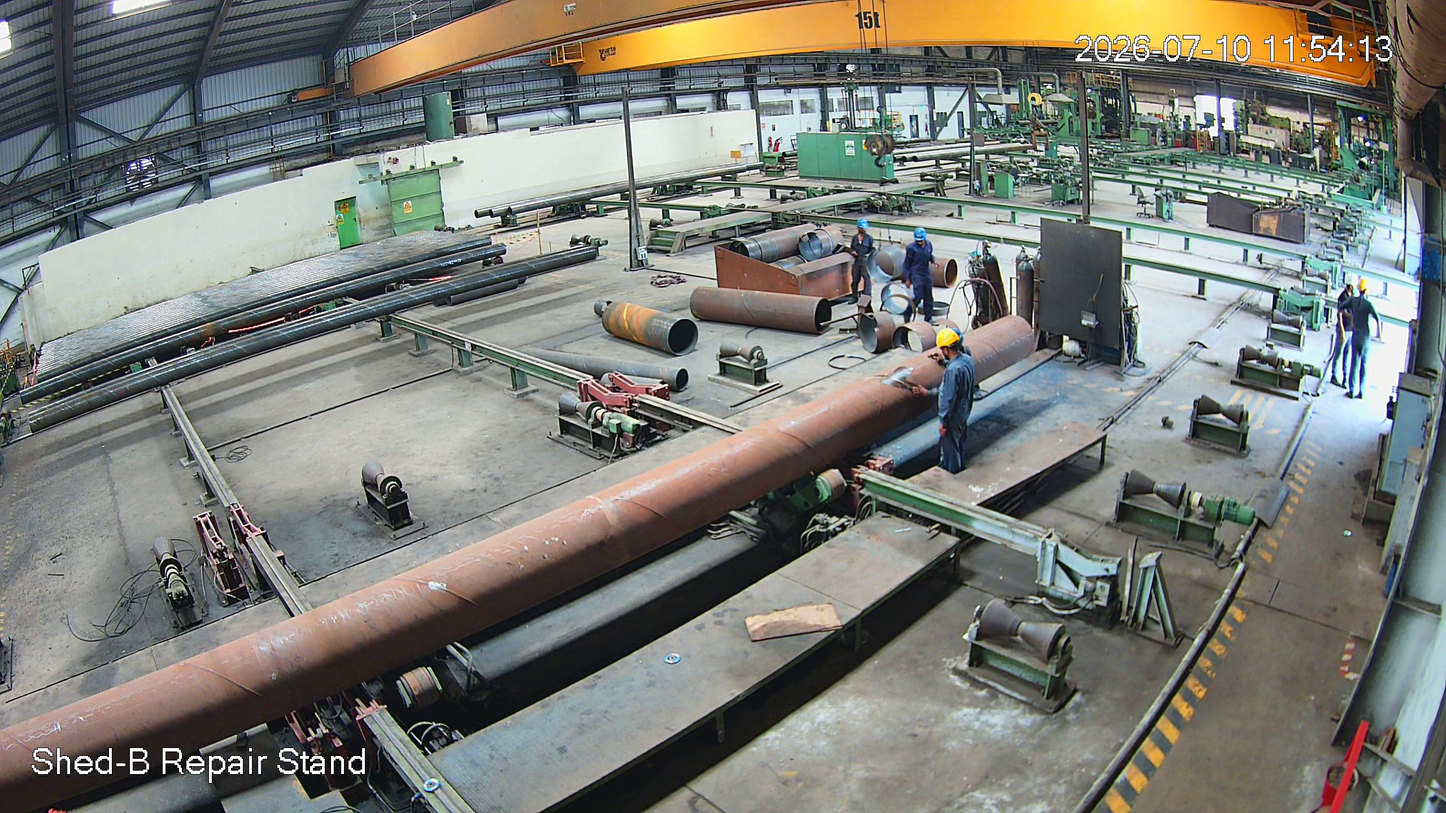Helmet: (934, 321, 964, 360), (908, 217, 929, 252), (1354, 268, 1371, 307), (852, 210, 869, 237)
Person: (933, 325, 976, 478), (1346, 272, 1383, 403), (900, 221, 941, 315), (847, 214, 885, 314)
